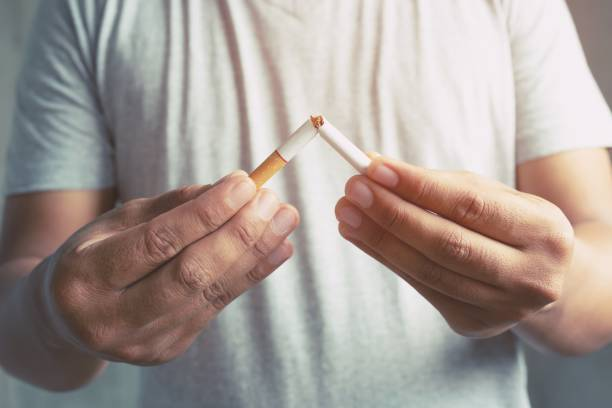cigarette: (248, 116, 319, 188), (312, 113, 372, 174)
